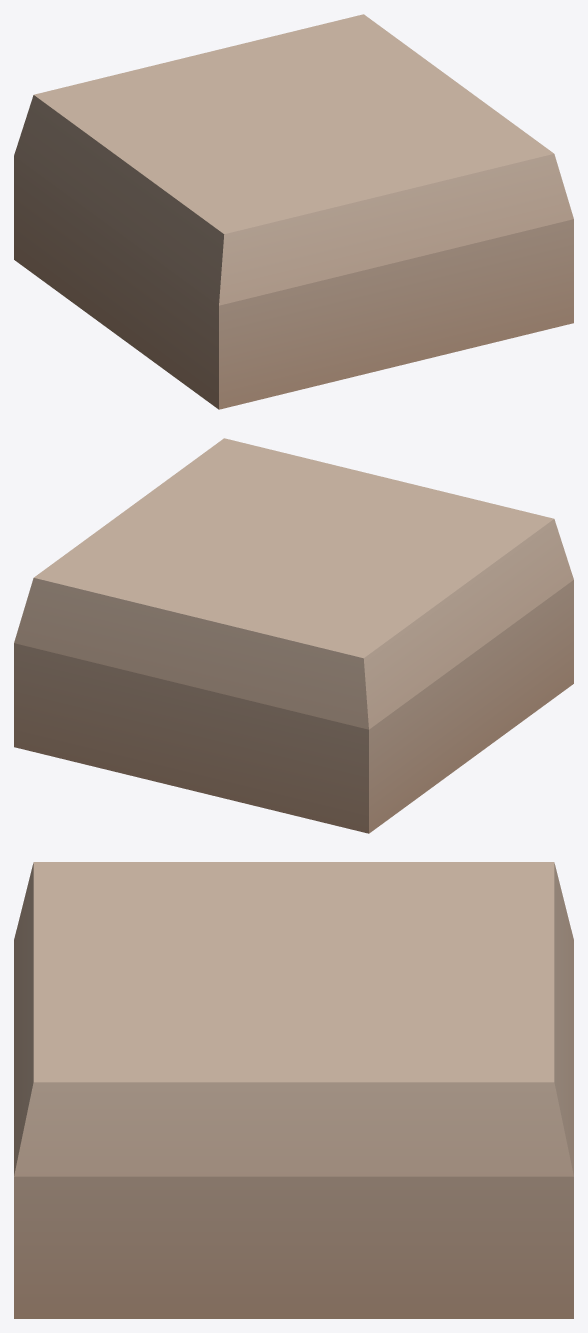
Rendered from tower-square-base-border.glb.
3 renders of one model, top to bottom at view 1: azimuth 30°, elevation 25°; view 2: azimuth 150°, elevation 25°; view 3: azimuth 270°, elevation 25°, orthographic. The views are drawn at different scales.
Visible parts, largest first — view 1: tower-square-base-border; view 2: tower-square-base-border; view 3: tower-square-base-border.
Part boxes in pixels (bbox=[...]): tower-square-base-border: bbox=[14, 14, 573, 409]; tower-square-base-border: bbox=[14, 438, 573, 833]; tower-square-base-border: bbox=[14, 862, 573, 1318].
Bounding box in the file's own units: 1 × 0.45 × 1.
